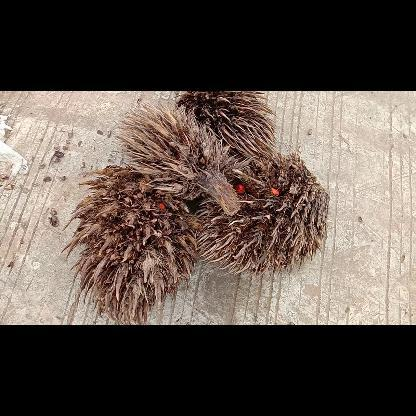Janjang kosong: (62, 166, 198, 324), (194, 152, 330, 276), (111, 102, 239, 214), (177, 91, 277, 161)
